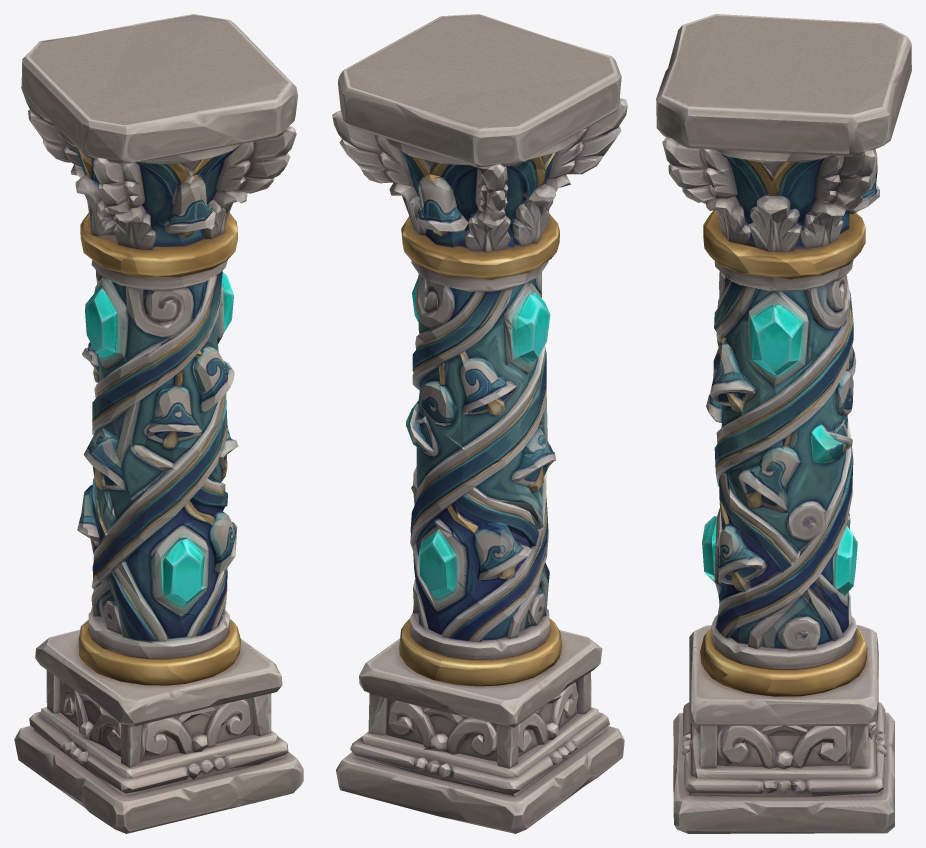
Rendered from gh_pillar.fbx.
3 renders of one model, left to right at view 1: azimuth 30°, elevation 25°; view 2: azimuth 150°, elevation 25°; view 3: azimuth 270°, elevation 25°, orthographic. The views are drawn at different scales.
Visible parts, largest first — view 1: gh_pillar; view 2: gh_pillar; view 3: gh_pillar.
Boxes of the visible parts, box(x1,y1,x2,y2) form: gh_pillar: box(14, 14, 303, 833); gh_pillar: box(332, 14, 627, 833); gh_pillar: box(656, 14, 911, 833).
Size of the model in its own units: 2.23 by 7 by 2.24.
